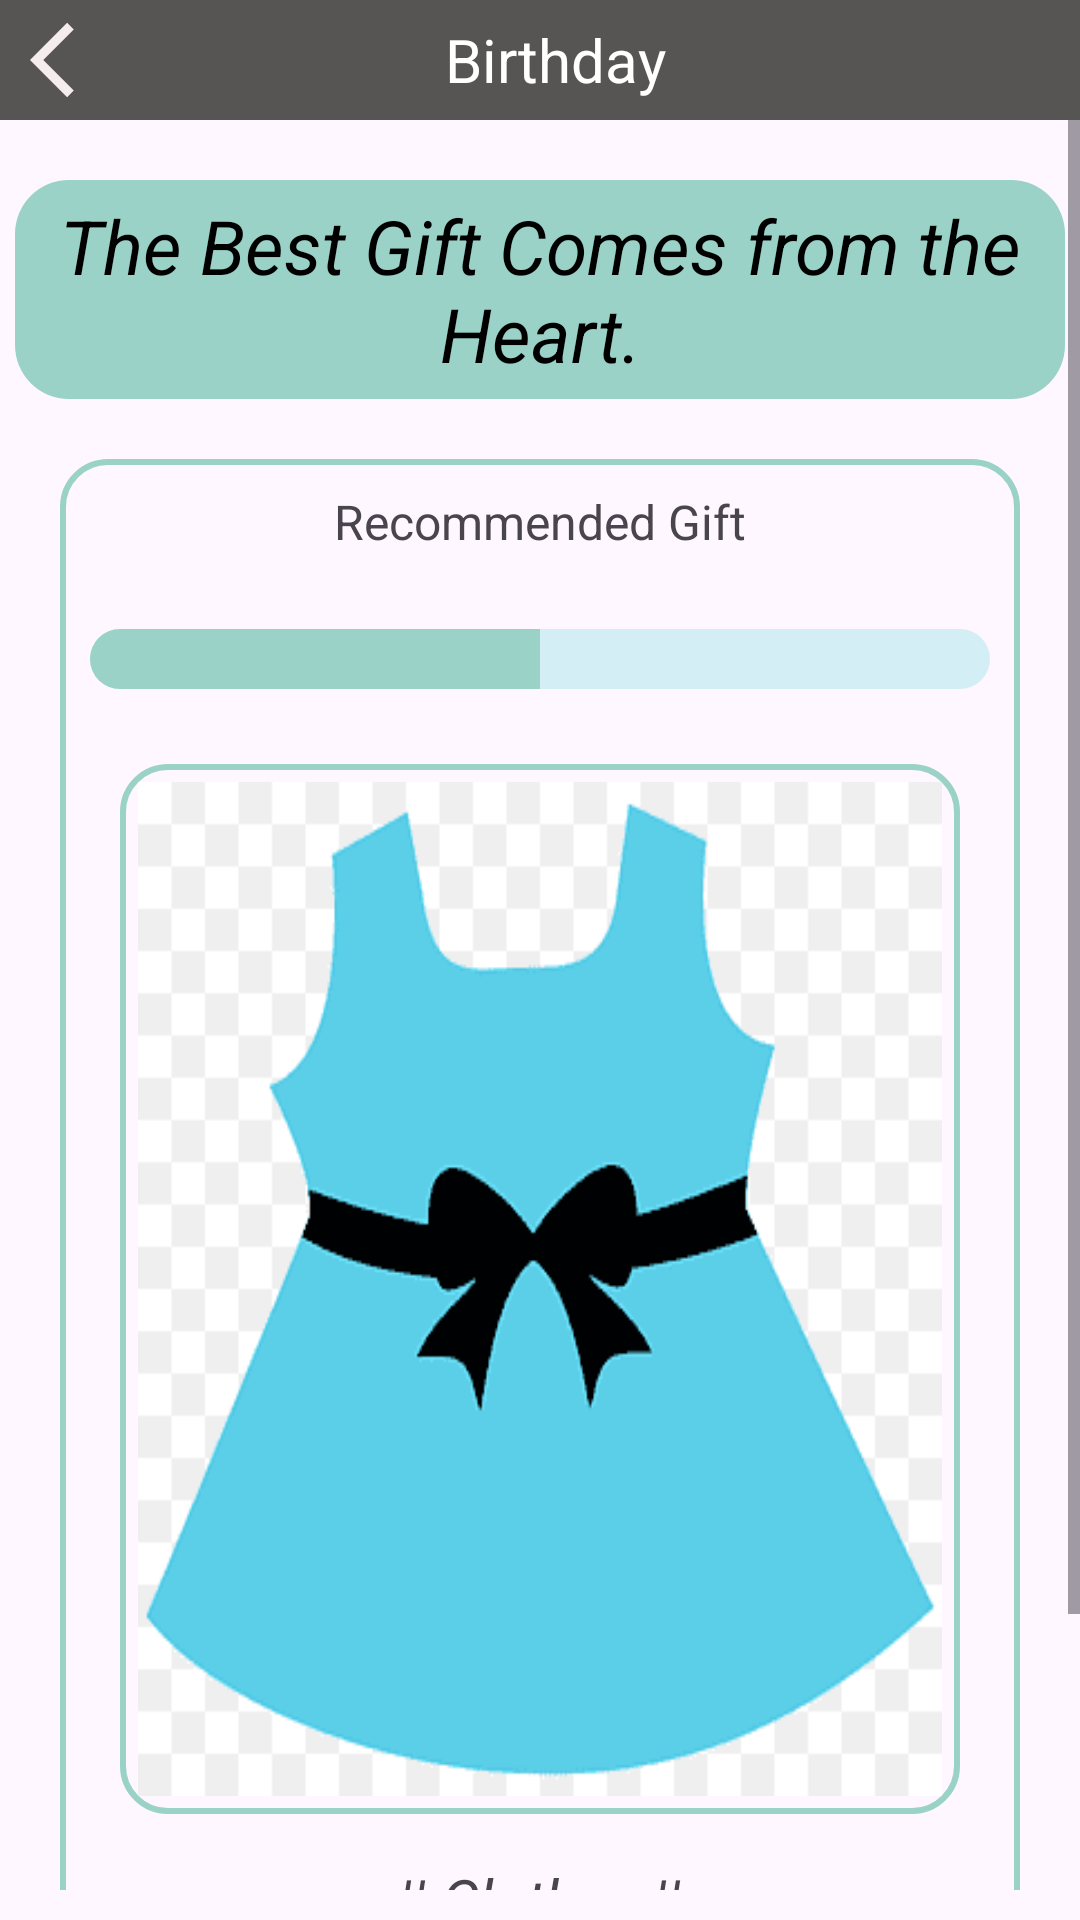

Icons on this 1080*1920 Android screen, each with the point to tap as [x,y]:
backicon: [52,60]
